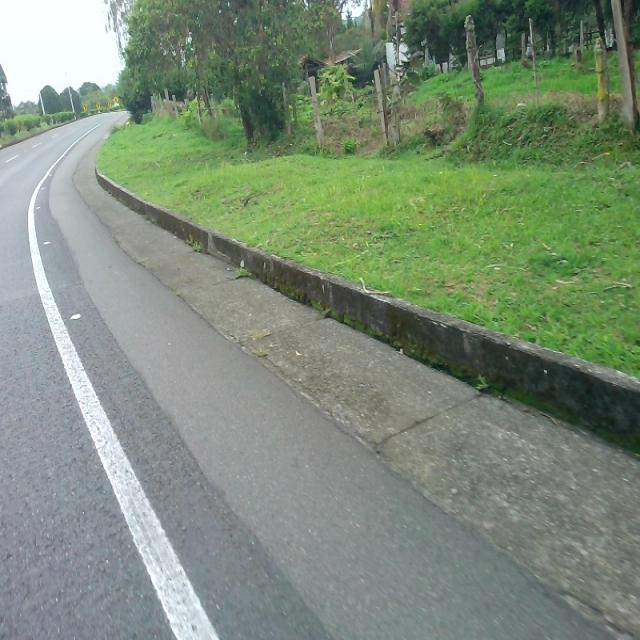DITCH: (1, 98, 638, 638), (44, 109, 639, 638)
